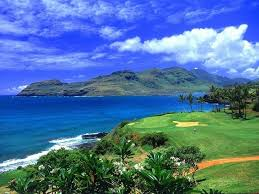beach: (1, 96, 231, 149)
mountain: (28, 68, 246, 93)
sky: (1, 1, 258, 72)
tree: (24, 142, 199, 194)
